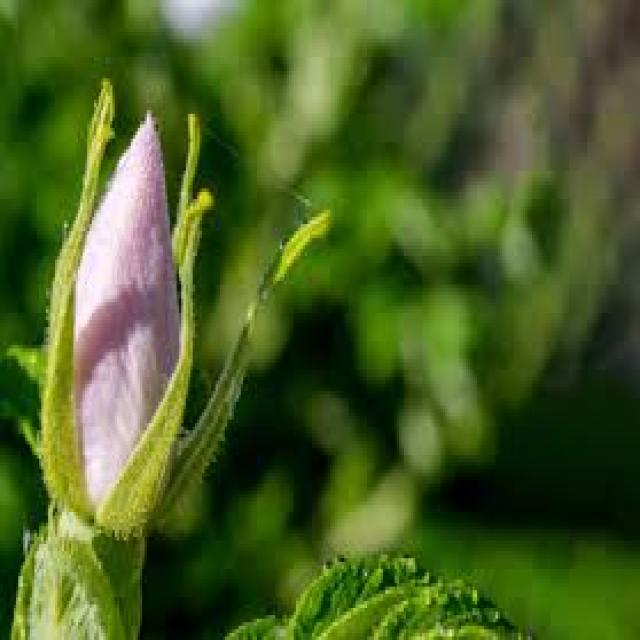Unbloomed: (39, 103, 197, 537)
